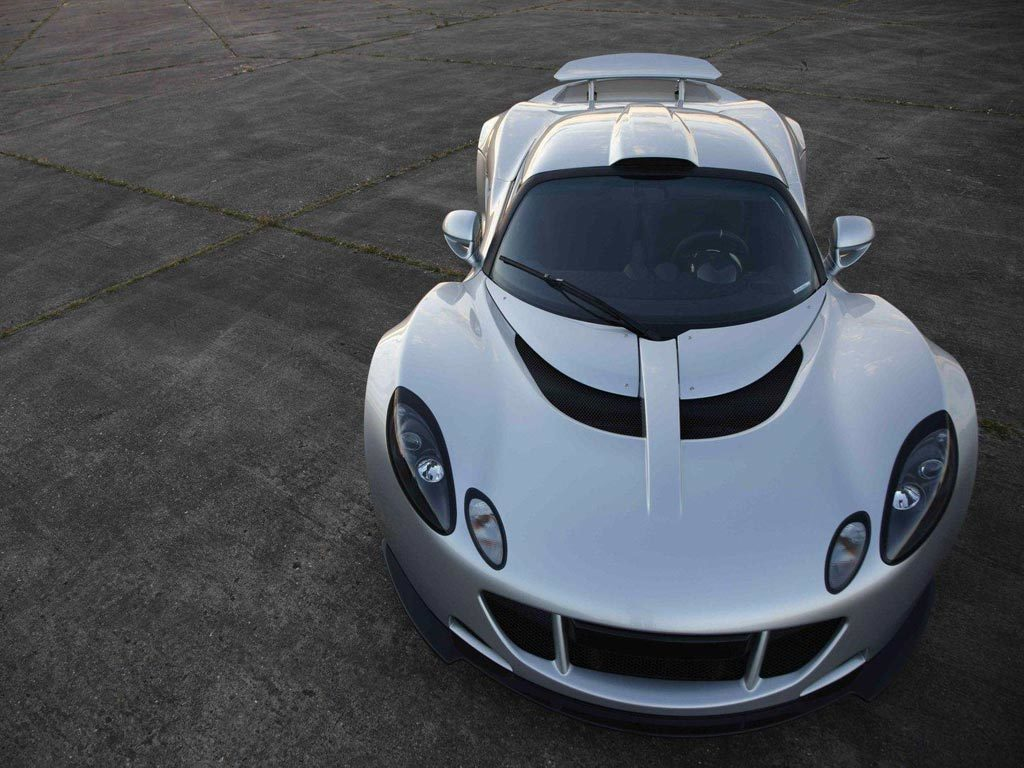Car: (362, 50, 979, 739)
